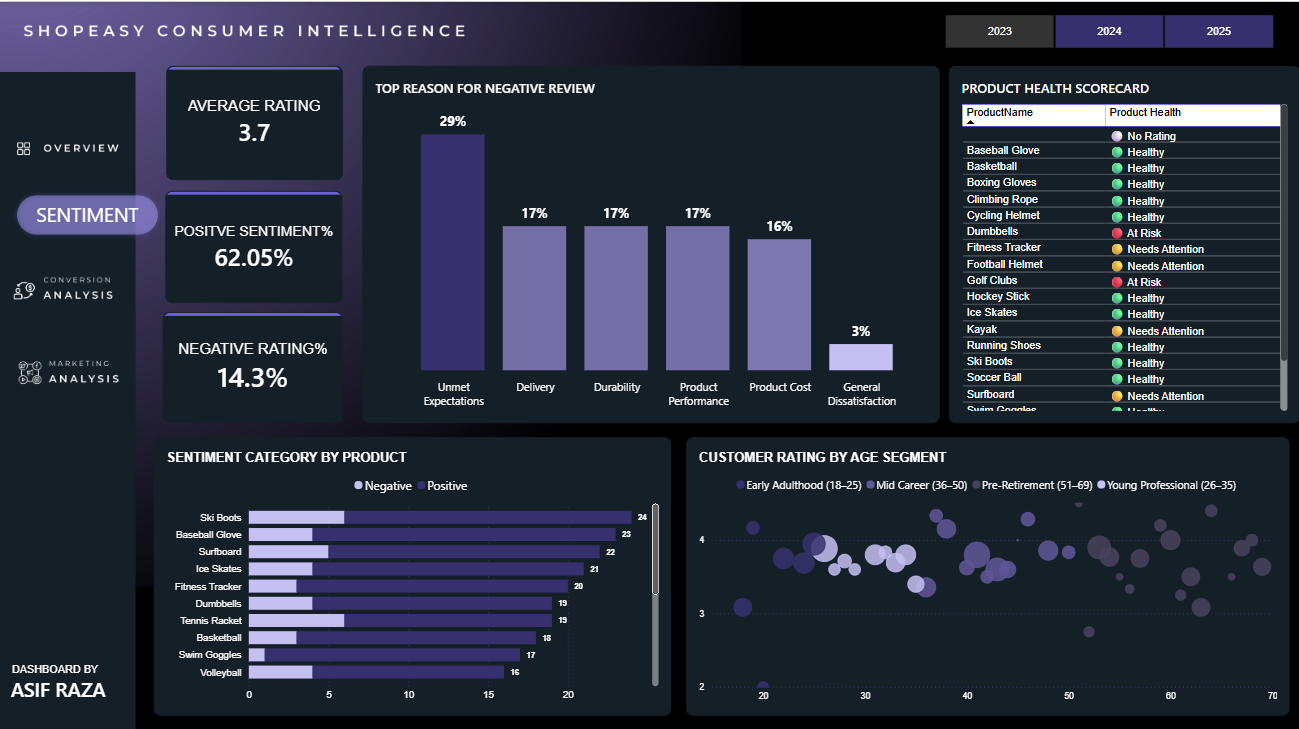

This screenshot's page, from the dashboard's own definition file:
{"tool":"powerbi","page":{"name":" Customer Sentiment","canvas":[1600,900],"ordinal":1},"visuals":[{"type":"cardVisual","fields":{"Data":["calculations.average rating"]},"box":[204,78.2,217.8,141.1],"z":0},{"type":"barChart","title":"SENTIMENT CATEGORY BY PRODUCT","fields":{"Category":["products.ProductName"],"Y":["CountNonNull(customer_reviews_sentiment.ReviewID)"],"Series":["customer_reviews_sentiment.SentimentCategory"]},"box":[188.7,535.3,636.5,343.6],"z":1000},{"type":"shape","box":[0,216.7,161.7,63.3],"z":2000},{"type":"clusteredColumnChart","title":"TOP REASON FOR NEGATIVE  REVIEW","fields":{"Category":["negative_reviews_issues.IssueCategory"],"Y":["Divide(CountNonNull(negative_reviews_issues.IssueCategory), ScopedEval(CountNonNull(negative_reviews_issues.IssueCategor"]},"box":[446.3,78.2,710.1,440.2],"z":3000},{"type":"scatterChart","title":"CUSTOMER RATING BY AGE SEGMENT","fields":{"Series":["customers.Age Segment"],"X":["customers.Age"],"Size":["CountNonNull(customer_reviews_sentiment.ReviewID)"],"Y":["Avg(customer_reviews_sentiment.Rating)"]},"box":[845.1,535.3,742.3,343.6],"z":4000},{"type":"tableEx","title":"PRODUCT HEALTH SCORECARD","fields":{"Values":["products.ProductName","calculations.Product Health"]},"box":[1167.2,78.2,432.5,440.2],"z":5000},{"type":"cardVisual","fields":{"Data":["calculations.% Positive Sentiment"]},"box":[203.3,231.7,218.3,138.3],"z":6000},{"type":"cardVisual","fields":{"Data":["negative_reviews_issues.neagtive review %"]},"box":[199.4,381.9,222.4,136.5],"z":7000},{"type":"shape","box":[0,216.7,215,90],"z":8000},{"type":"slicer","fields":{"Values":["Calendar.Date.Variation.Date Hierarchy.Year"]},"box":[1142.6,13.1,442.6,44.3],"z":9000},{"type":"pageNavigator","box":[0,306.7,183.3,205],"z":10000},{"type":"pageNavigator","box":[0,131.7,183.3,100],"z":11000},{"type":"textbox","box":[0,814.4,182.5,64.4],"z":12000}]}

Visuals, with their boxes in screenshot pixels (x1, y1, x2, y2), scaled from the page's 1600x900 canvas onto the 1299x729 screenshot:
cardVisual - calculations.average rating: l=166, t=63, r=342, b=178
"SENTIMENT CATEGORY BY PRODUCT" barChart: l=153, t=434, r=670, b=712
shape: l=0, t=176, r=131, b=227
"TOP REASON FOR NEGATIVE  REVIEW" clusteredColumnChart: l=362, t=63, r=939, b=420
"CUSTOMER RATING BY AGE SEGMENT" scatterChart: l=686, t=434, r=1289, b=712
"PRODUCT HEALTH SCORECARD" tableEx: l=948, t=63, r=1298, b=420
cardVisual - calculations.% Positive Sentiment: l=165, t=188, r=342, b=300
cardVisual - negative_reviews_issues.neagtive review %: l=162, t=309, r=342, b=420
shape: l=0, t=176, r=175, b=248
slicer - Calendar.Date.Variation.Date Hierarchy.Year: l=928, t=11, r=1287, b=46
pageNavigator: l=0, t=248, r=149, b=414
pageNavigator: l=0, t=107, r=149, b=188
textbox: l=0, t=660, r=148, b=712
